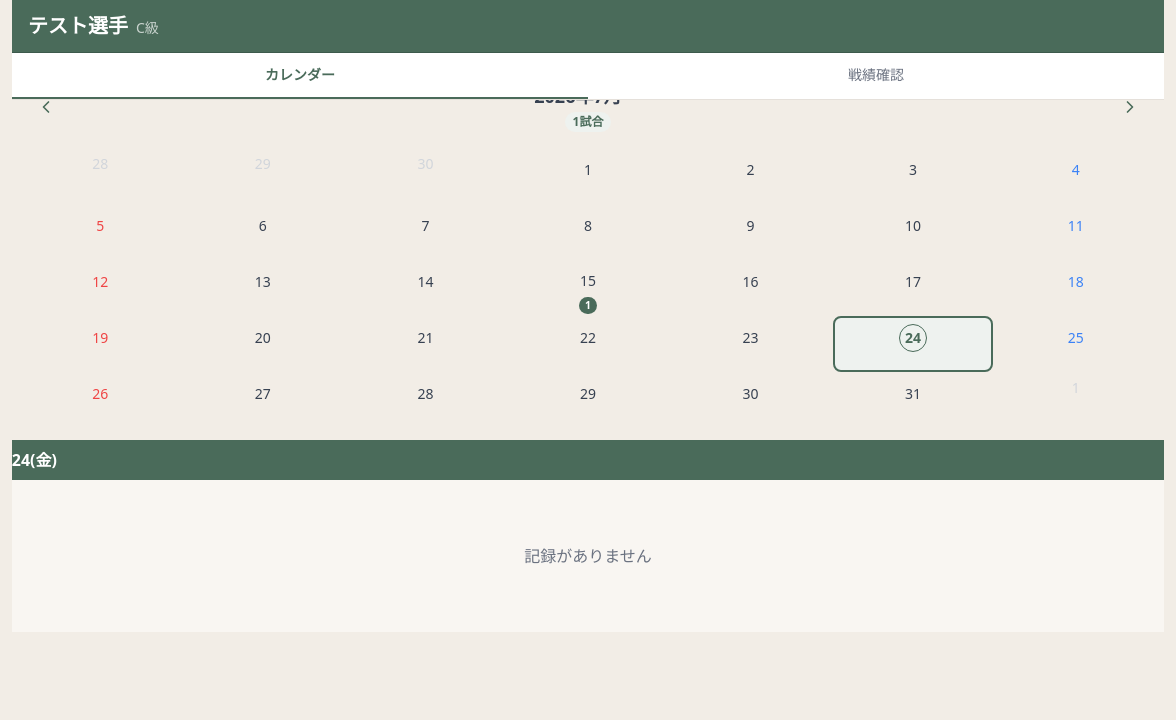
Test: MatchList - 2タブ（戦績確認 / カレンダー） › AC-4: カレンダーから戦績確認へ戻ると直前の選手(playerId=5)の戦績が復元される
expect the button named "前の月" is shown: met, box x1=28 y1=89 x2=64 y2=125
Click the button "戦績確認". click: coordinates (876, 76)
box: x1=588 y1=53 x2=1164 y2=99
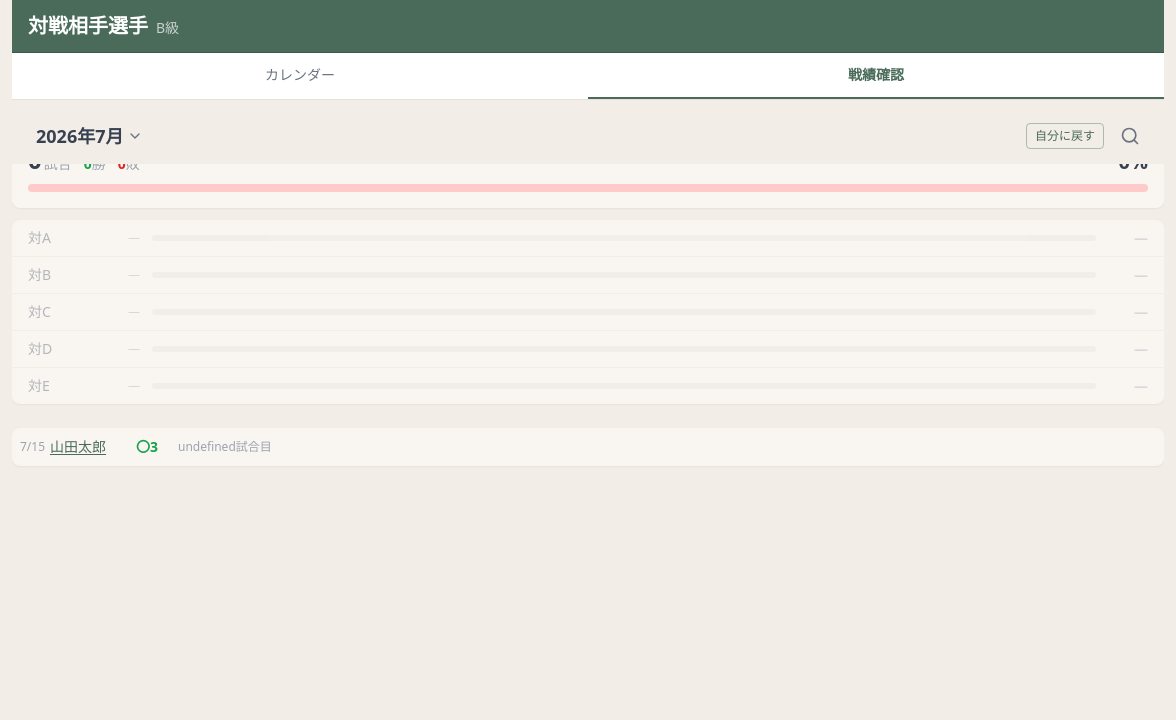
expect the text "対戦相手選手" is shown: met, box x1=28 y1=12 x2=148 y2=40
expect the button "自分に戻す" is shown: met, box x1=1026 y1=123 x2=1104 y2=149
